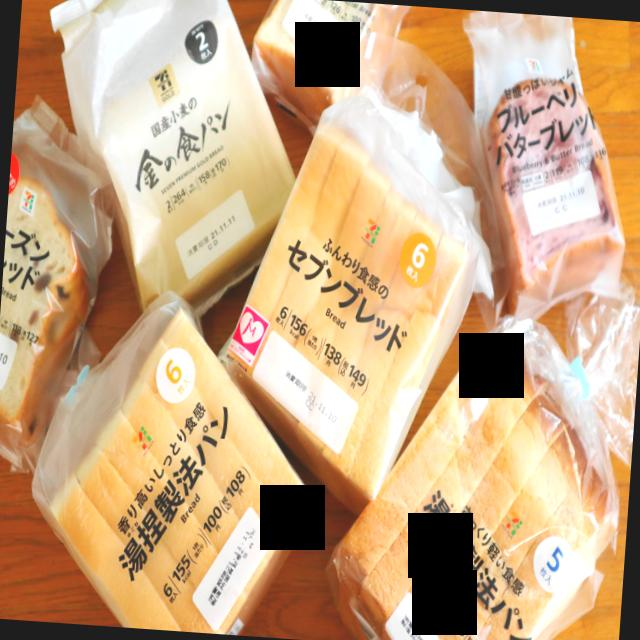bread: (219, 39, 495, 514), (325, 283, 640, 640), (32, 294, 316, 635), (50, 0, 296, 317)
